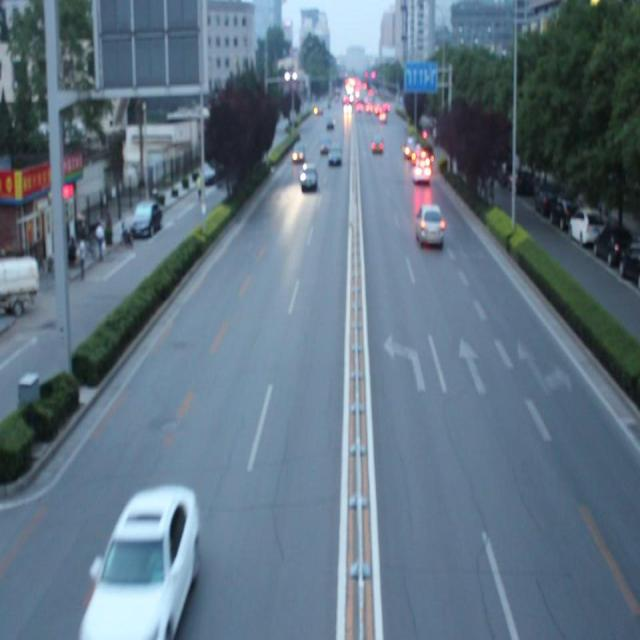car: (86, 484, 198, 640), (416, 202, 444, 246)
